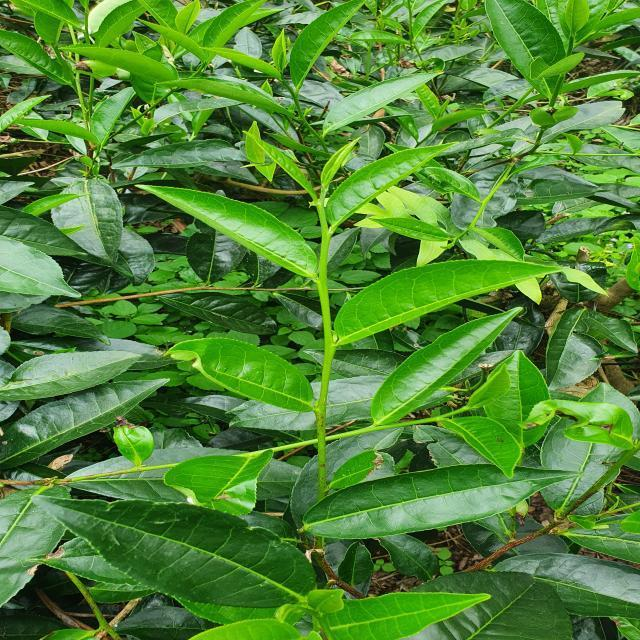Stem: (322, 231, 330, 244), (281, 80, 288, 86), (83, 30, 89, 36)
